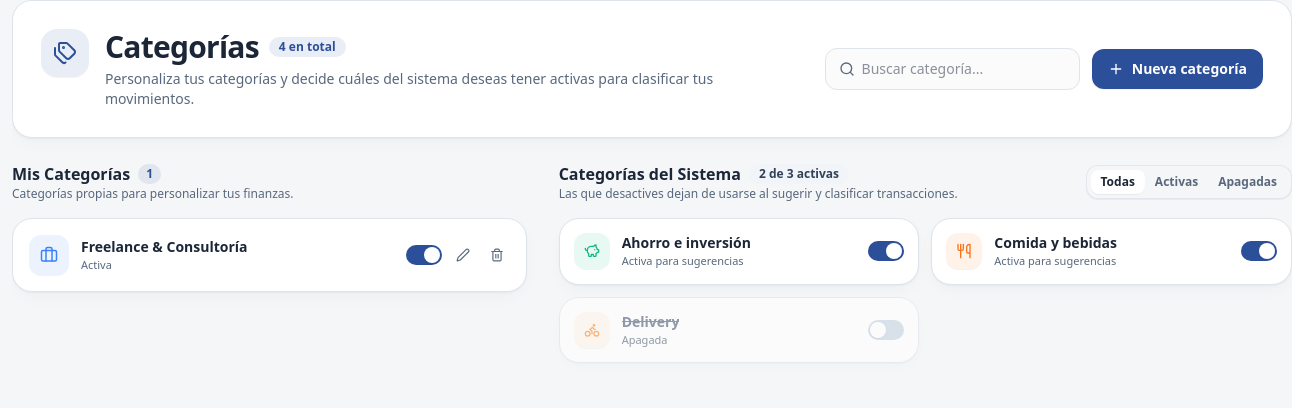
Test case: CategoriesView › filters categories via search input in real time
The width and height of the screenshot is (1292, 408).
Check: the text "Comida y bebidas" is shown, box 994,233 -> 1117,253
Type "Comida" into the field with placeholder "Buscar categoría...".
click(952, 69); type("Comida")  # box 825,48 -> 1080,90
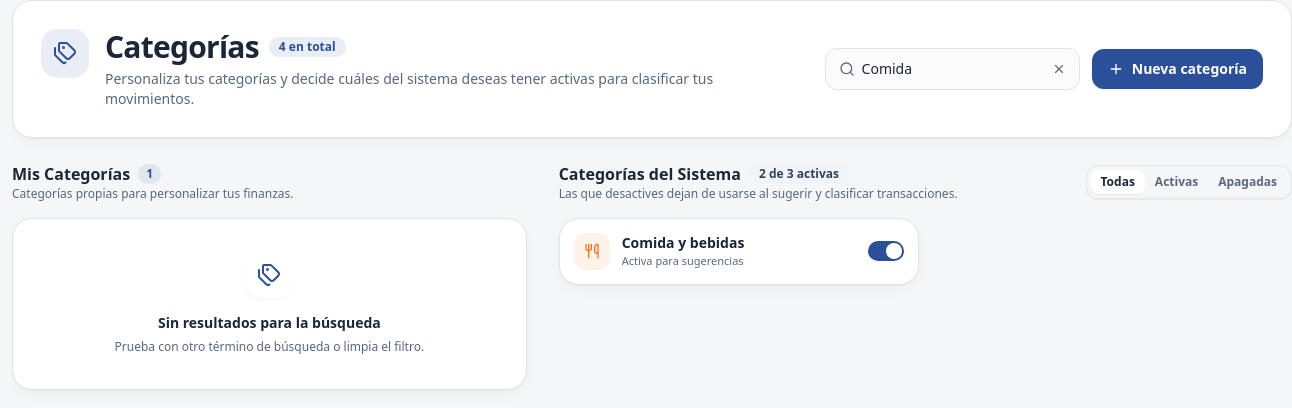
Check: the text "Comida y bebidas" is shown, box 622,233 -> 744,253
Check: the text "Ahorro e inversión" is gone
Check: the text "Freelance & Consultoría" is gone
